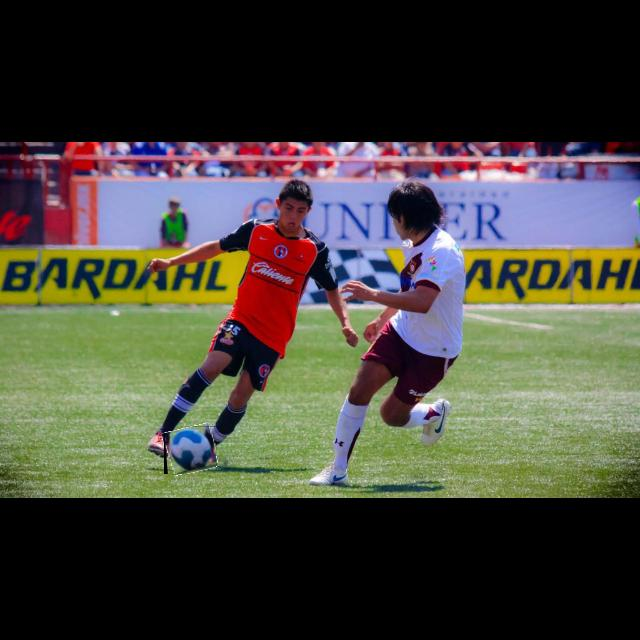Football: (164, 426, 216, 474)
